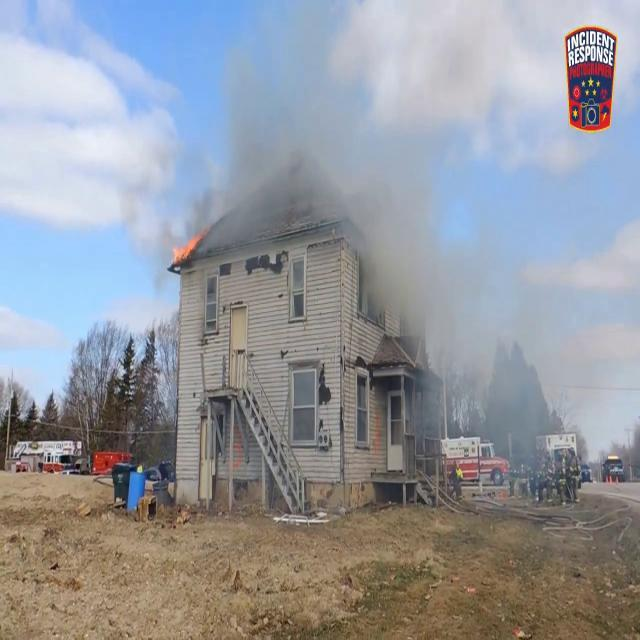Fire: (170, 230, 200, 270)
Smoke: (190, 5, 474, 268), (416, 204, 576, 458), (102, 92, 196, 296)
